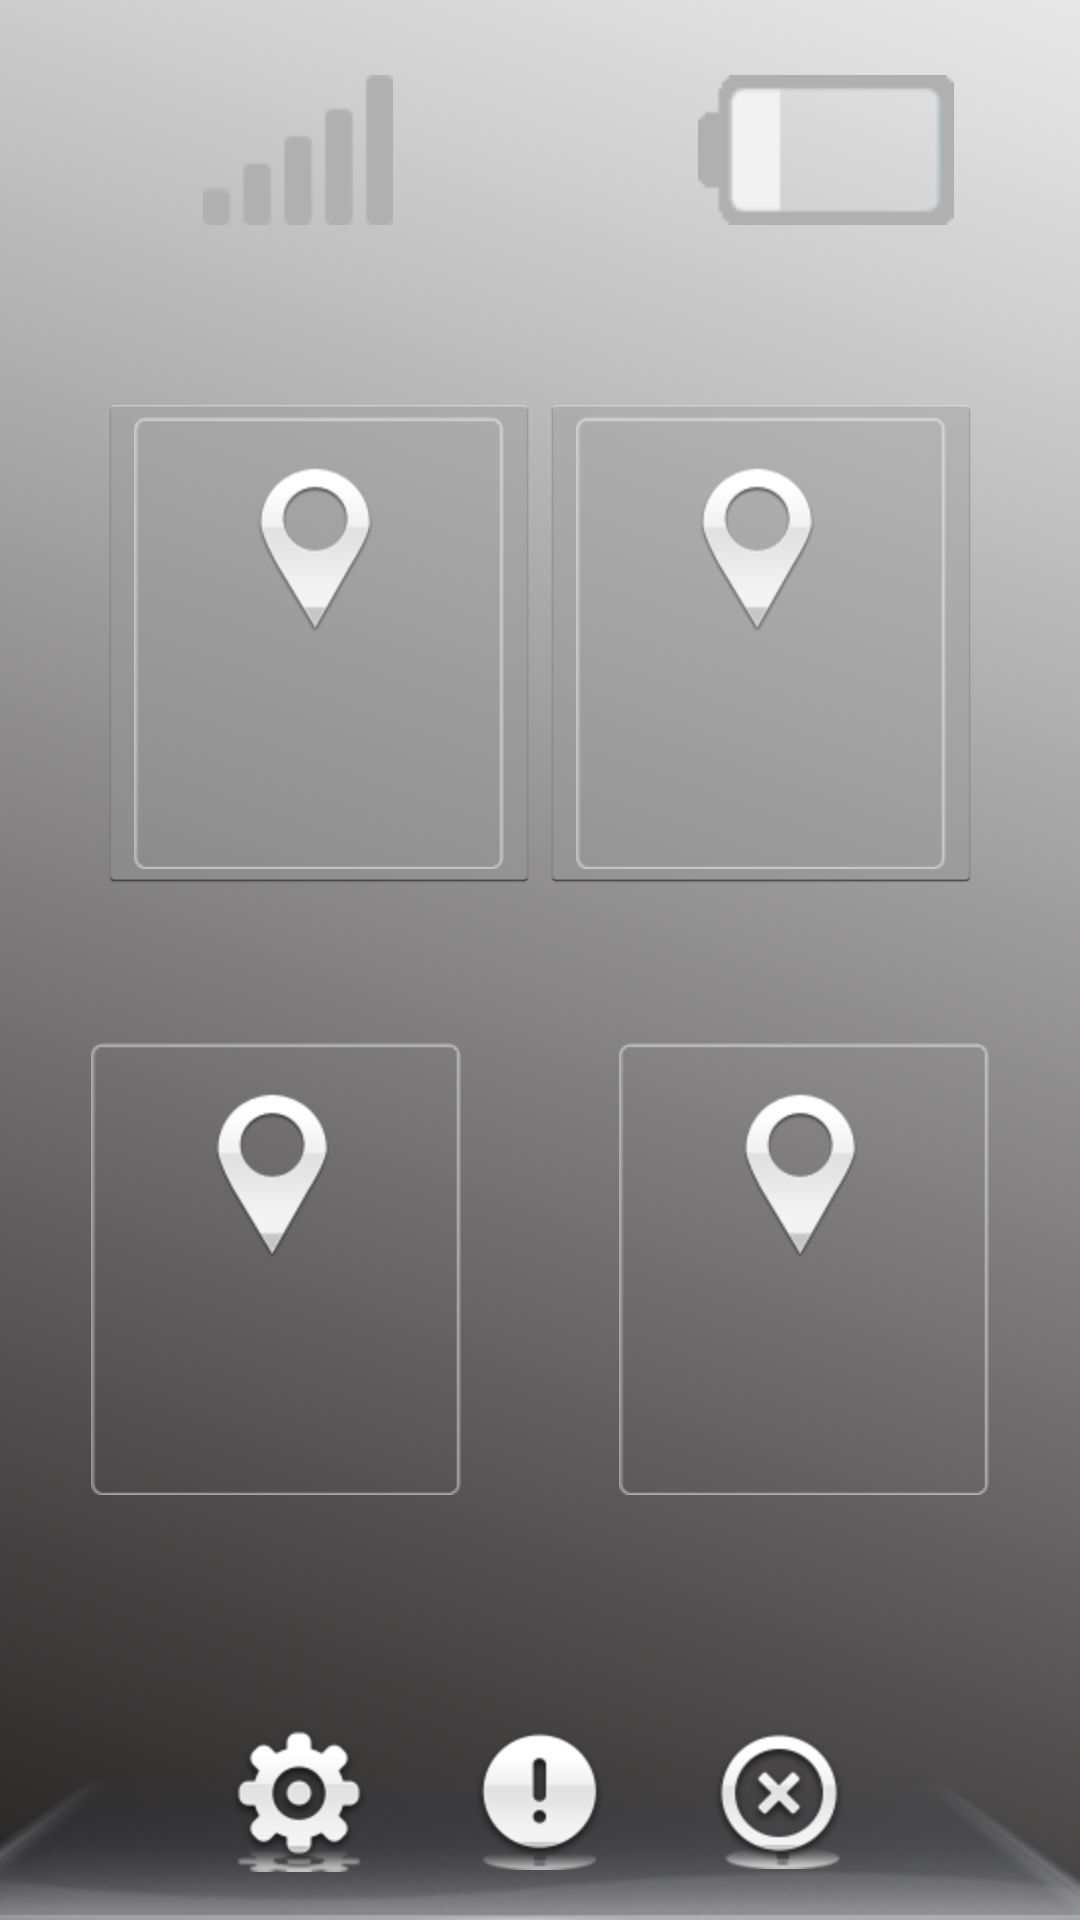

Where icons sit on this 1080px×1920px app screen, as (x1, y1, x2, y2):
setting: (238, 1732, 360, 1872)
signal: (203, 78, 393, 225)
